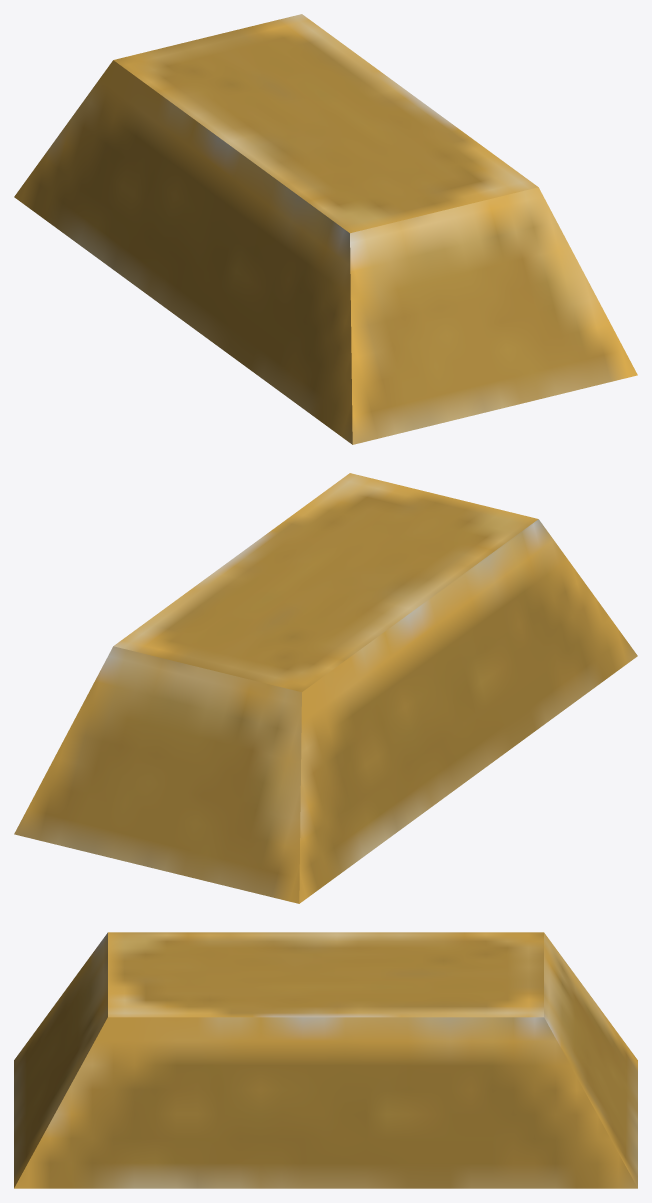
The model's file is Gold.fbx.
The picture shows the model from 3 angles, top to bottom: view 1: azimuth 30°, elevation 25°; view 2: azimuth 150°, elevation 25°; view 3: azimuth 270°, elevation 25°; orthographic projection. The views are drawn at different scales.
Visible parts, largest first — view 1: pCube13; view 2: pCube13; view 3: pCube13.
Part boxes in pixels (left/top/right/bottom): pCube13: left=14, top=14, right=637, bottom=444; pCube13: left=14, top=473, right=637, bottom=903; pCube13: left=14, top=932, right=637, bottom=1188.
Bounding box in the file's own units: 75.56 × 41.14 × 155.
